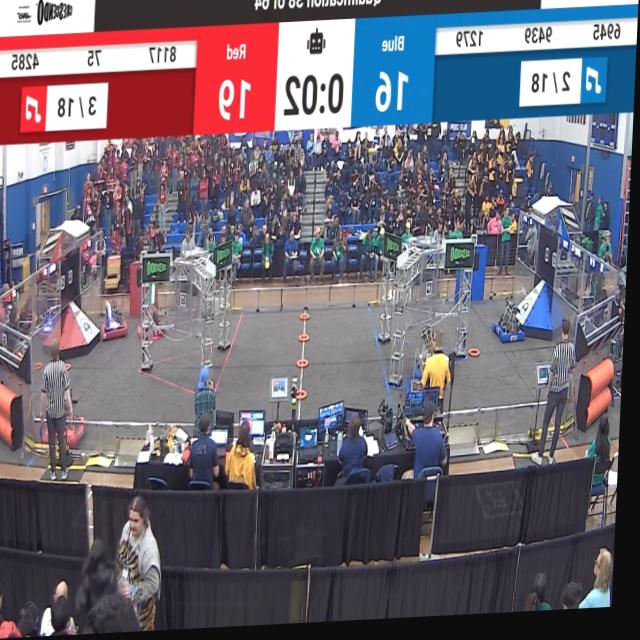Robot: (44, 352, 96, 450), (142, 283, 176, 347), (98, 287, 133, 349), (493, 299, 534, 351), (400, 362, 429, 411), (409, 335, 428, 393)
